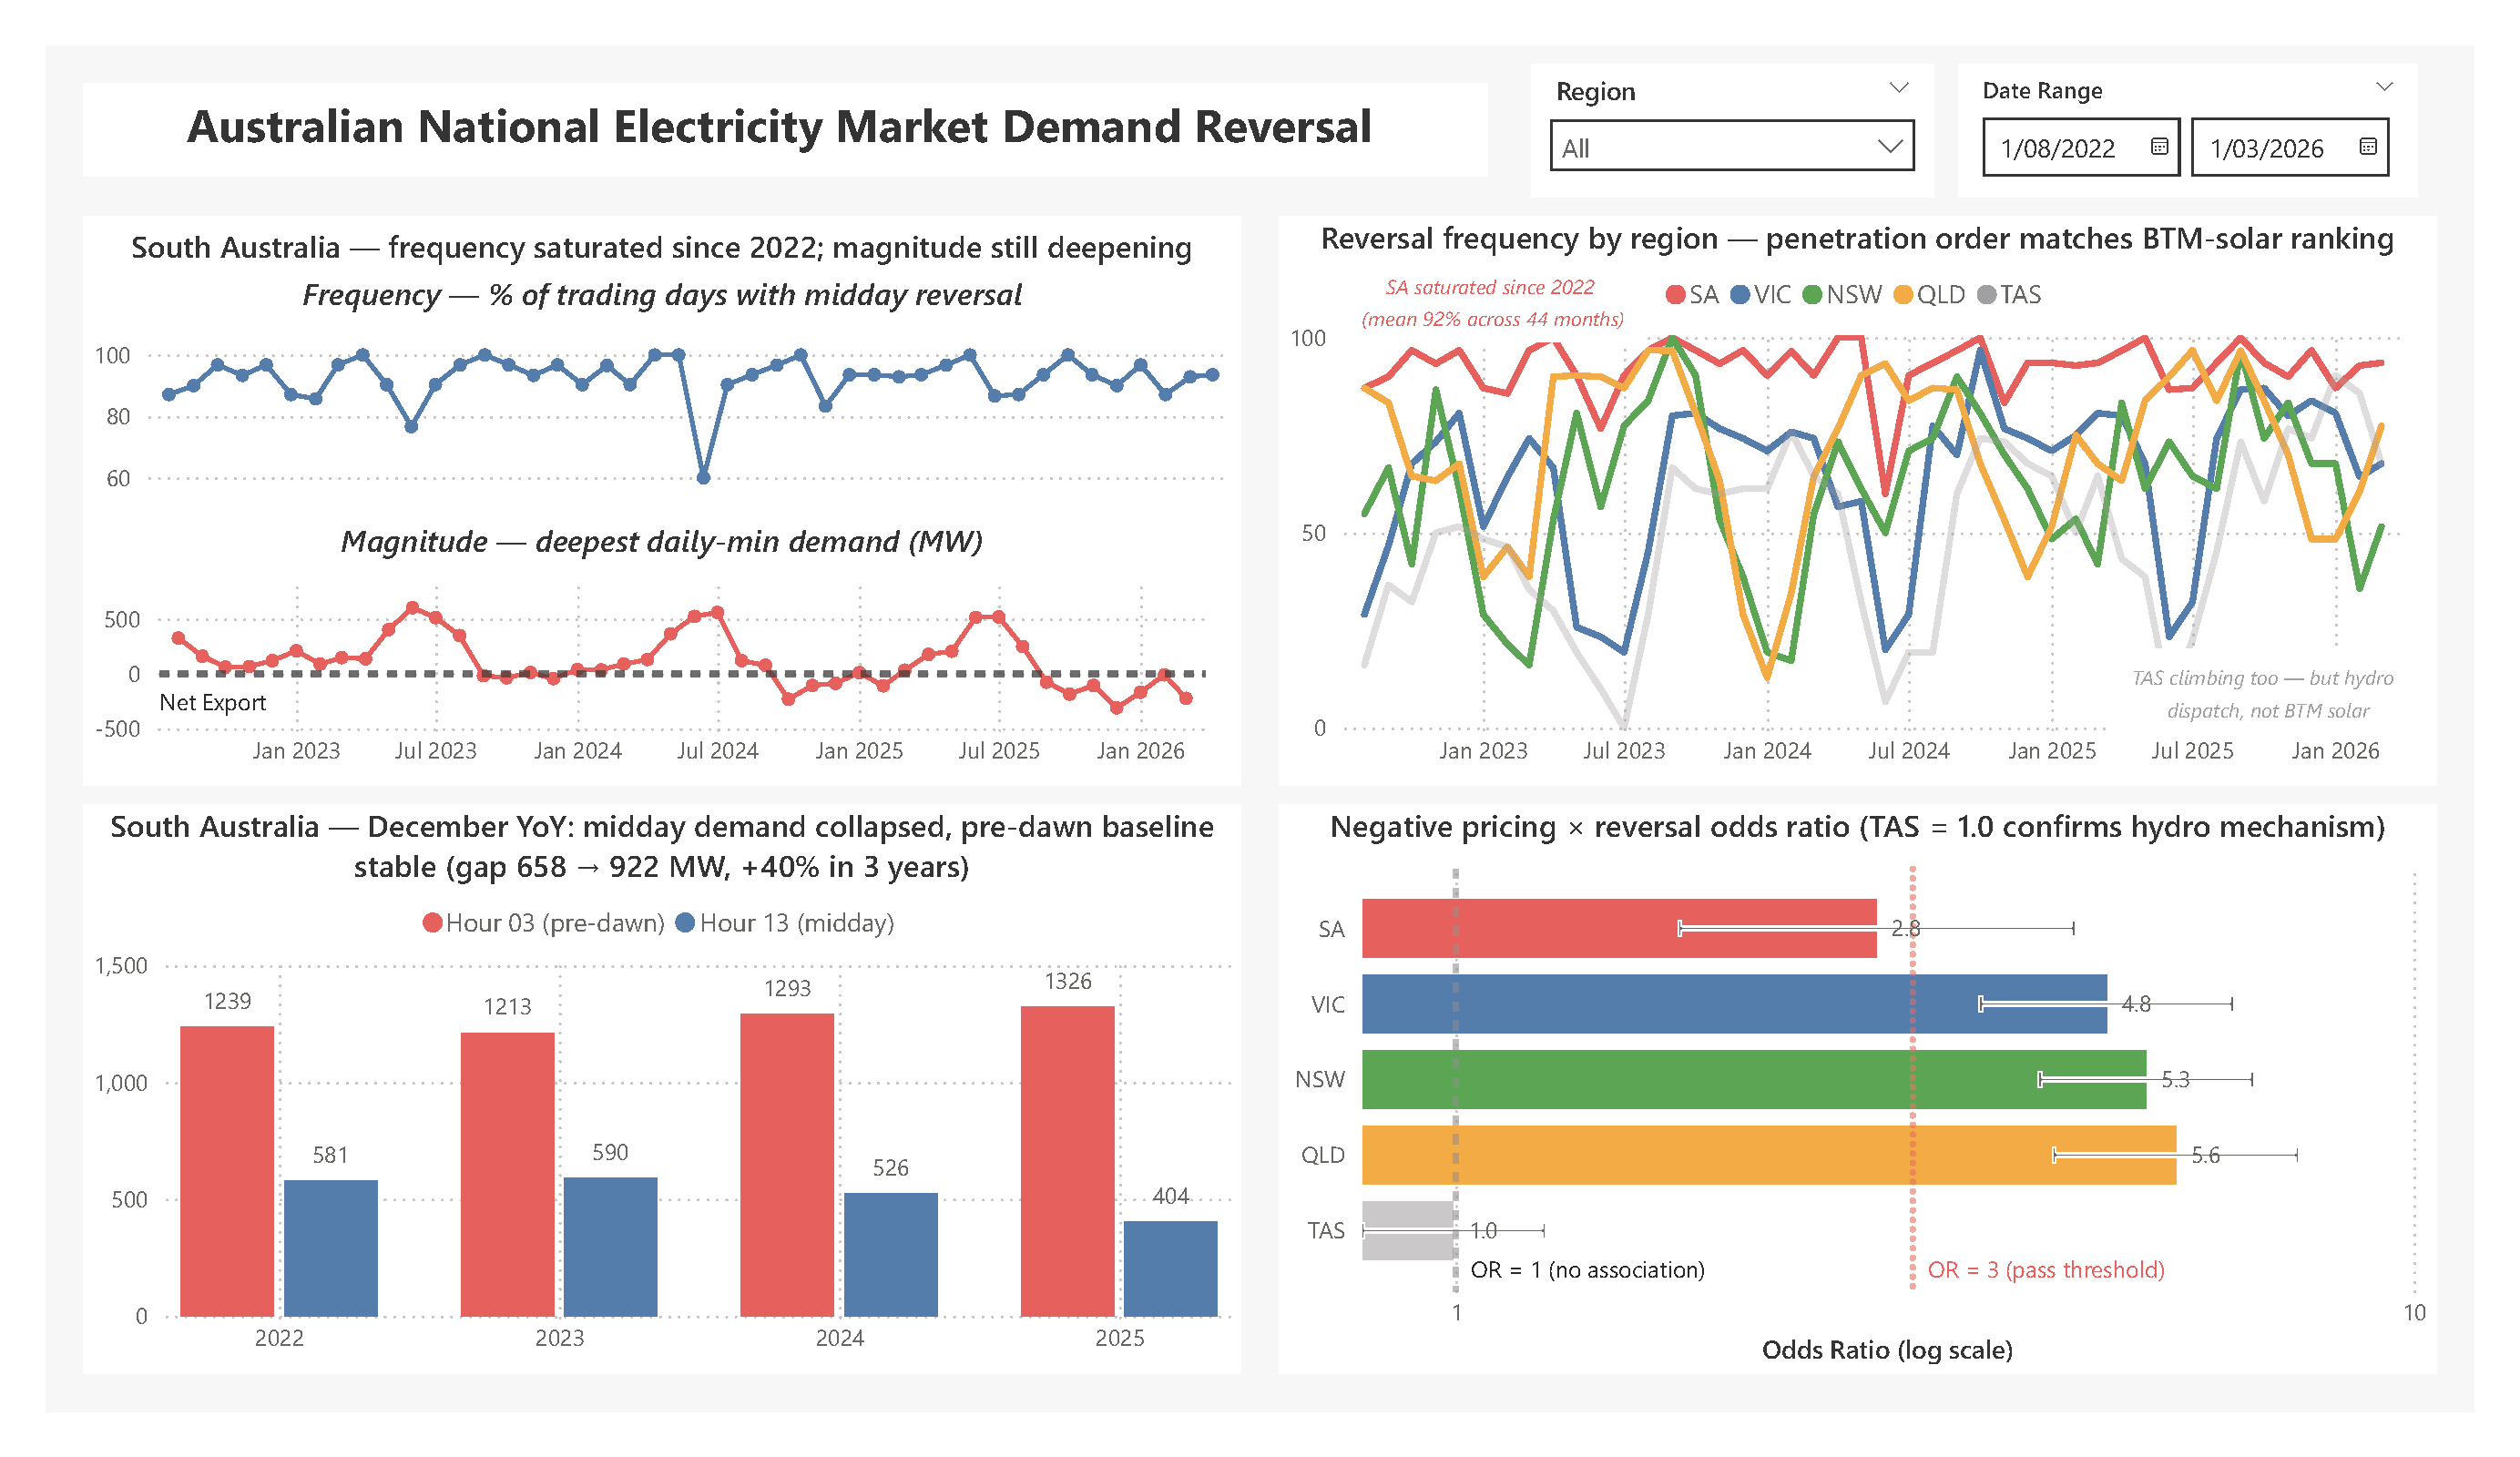

What the dashboard file says about the page in this screenshot:
{"tool":"powerbi","page":{"name":"Findings","canvas":[1280,720],"ordinal":0},"visuals":[{"type":"lineChart","title":"Frequency — % of trading days with midday reversal","fields":{"Y":["Avg(v_monthly_reversal_rate.reversal_pct)"],"Category":["v_monthly_reversal_rate.month"]},"box":[20,120,610,130],"z":0,"group":"g1"},{"type":"clusteredColumnChart","title":" South Australia — December YoY: midday demand collapsed,   pre-dawn baseline stable (gap 658 → 922 MW, +40% in 3 years)","fields":{"Y":["Sum(v_demand_h03_h13_panel.h03_mean)","Sum(v_demand_h03_h13_panel.h13_mean)"],"Category":["v_demand_h03_h13_panel.month.Variation.Date Hierarchy.Year","v_demand_h03_h13_panel.month.Variation.Date Hierarchy.Quarter","v_demand_h03_h13_panel.month.Variation.Date Hierarchy.Month","v_demand_h03_h13_panel.month.Variation.Date Hierarchy.Day"]},"box":[20,400,610,300],"z":0},{"type":"group","id":"g1","title":"Group 1","box":[20,90,610,300],"z":1000},{"type":"lineChart","title":"Magnitude — deepest daily-min demand (MW)","fields":{"Category":["v_monthly_reversal_rate.month"],"Y":["Avg(v_monthly_reversal_rate.deepest_min_demand)"]},"box":[20,250,610,140],"z":1000,"group":"g1"},{"type":"textbox","box":[20,20,740,49],"z":2000},{"type":"textbox","box":[20,90,610,35],"z":2000,"group":"g1"},{"type":"slicer","fields":{"Values":["region_lookup.region_short"]},"box":[783,10,212,70],"z":3000},{"type":"lineChart","title":"Reversal frequency by region — penetration order matches BTM-solar ranking","fields":{"Y":["Sum(v_monthly_reversal_rate.reversal_pct)"],"Series":["region_lookup.region_short"],"Category":["v_monthly_reversal_rate.month"]},"box":[650,90,610,300],"z":3000,"group":"g2"},{"type":"group","id":"g2","title":"Group 2","box":[650,90,610,300],"z":4000},{"type":"textbox","box":[677,112,166,44],"z":4000,"group":"g2"},{"type":"slicer","fields":{"Values":["v_monthly_reversal_rate.month"]},"box":[1008,10,242,70],"z":5000},{"type":"textbox","box":[1087,318,163,45],"z":5000,"group":"g2"},{"type":"clusteredBarChart","title":"Negative pricing × reversal odds ratio   (TAS = 1.0 confirms hydro mechanism)","fields":{"Y":["Sum(h8_or.odds_ratio)"],"Category":["region_lookup.region_short"]},"box":[650,400,610,300],"z":6000}]}

Visuals, with their boxes on the page's 1280x720 design canvas (x1, y1, x2, y2). These are canvas units, not pixel positions in the 2520x1457 screenshot, which may show the page scaled, cropped or inside an application window:
"Frequency — % of trading days with midday reversal" lineChart: select_region(20, 120, 630, 250)
" South Australia — December YoY: midday demand collapsed,   pre-dawn baseline stable (gap 658 → 922 MW, +40% in 3 years)" clusteredColumnChart: select_region(20, 400, 630, 700)
"Group 1" group: select_region(20, 90, 630, 390)
"Magnitude — deepest daily-min demand (MW)" lineChart: select_region(20, 250, 630, 390)
textbox: select_region(20, 20, 760, 69)
textbox: select_region(20, 90, 630, 125)
slicer - region_lookup.region_short: select_region(783, 10, 995, 80)
"Reversal frequency by region — penetration order matches BTM-solar ranking" lineChart: select_region(650, 90, 1260, 390)
"Group 2" group: select_region(650, 90, 1260, 390)
textbox: select_region(677, 112, 843, 156)
slicer - v_monthly_reversal_rate.month: select_region(1008, 10, 1250, 80)
textbox: select_region(1087, 318, 1250, 363)
"Negative pricing × reversal odds ratio   (TAS = 1.0 confirms hydro mechanism)" clusteredBarChart: select_region(650, 400, 1260, 700)
